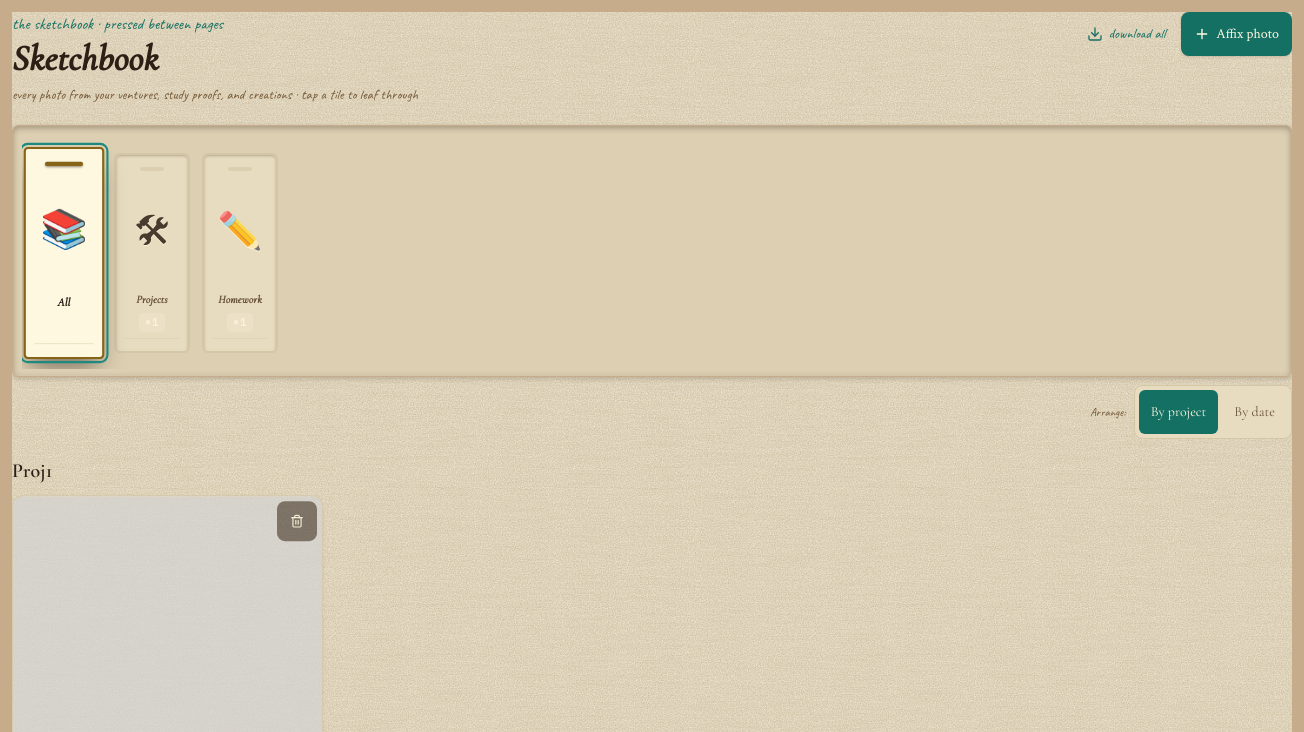
Test: Portfolio › filter pills switch the visible set
Click the tab "🛠 Projects ×1".
click(152, 253)  # box [114,153,190,353]
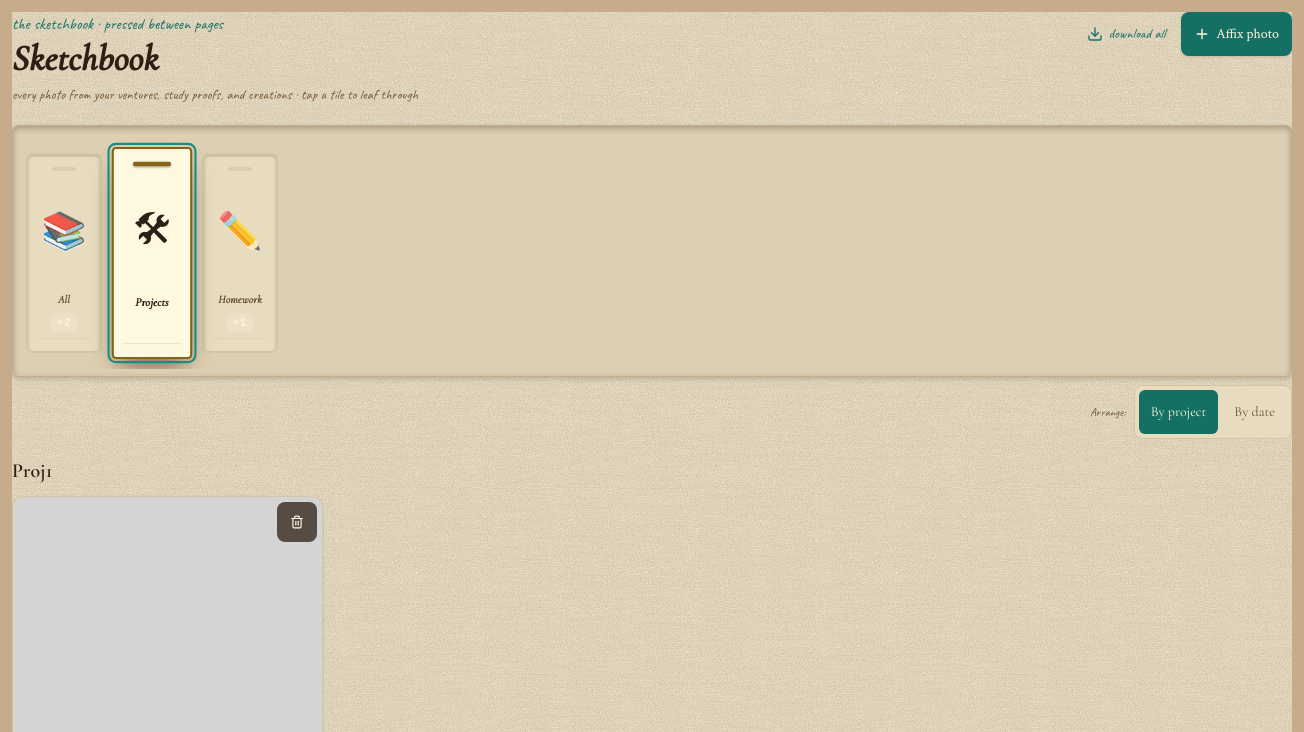
Click the tab "✏️ Homework ×1".
click(240, 253)  # box [202,153,278,353]
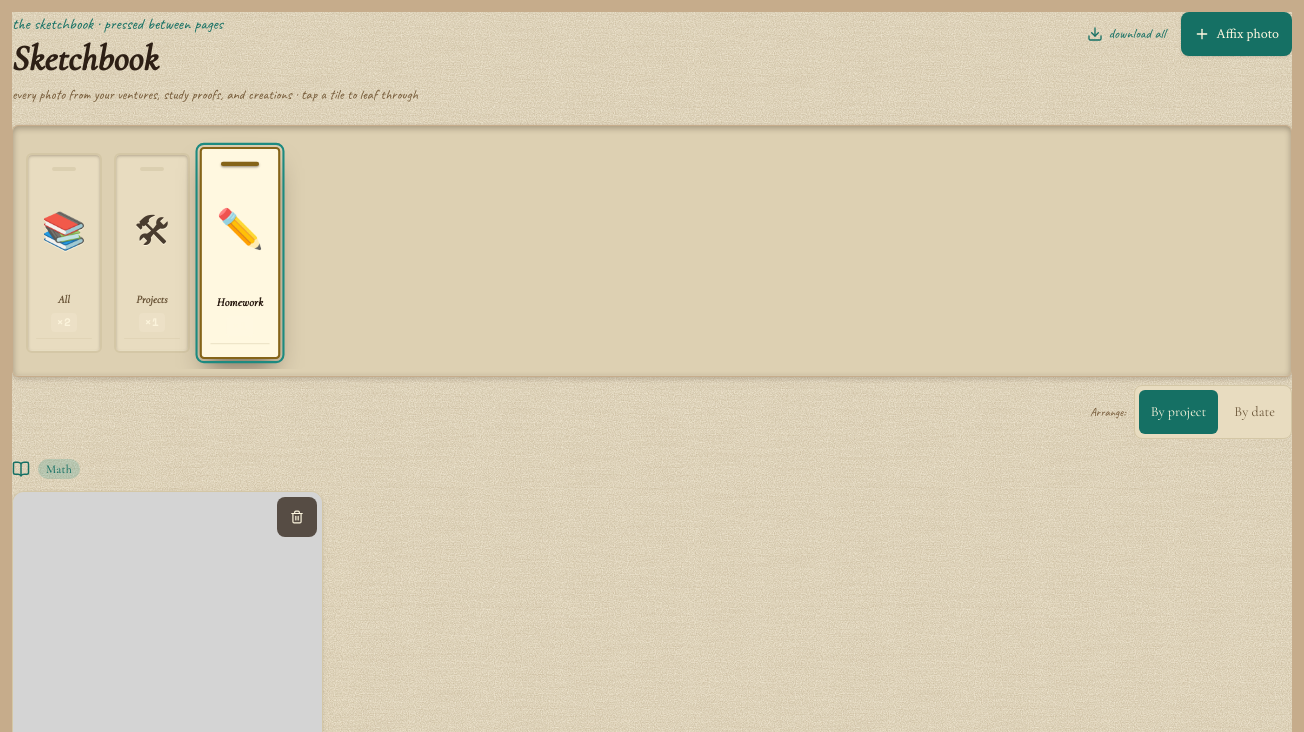
Check: the heading "Proj1" is gone
